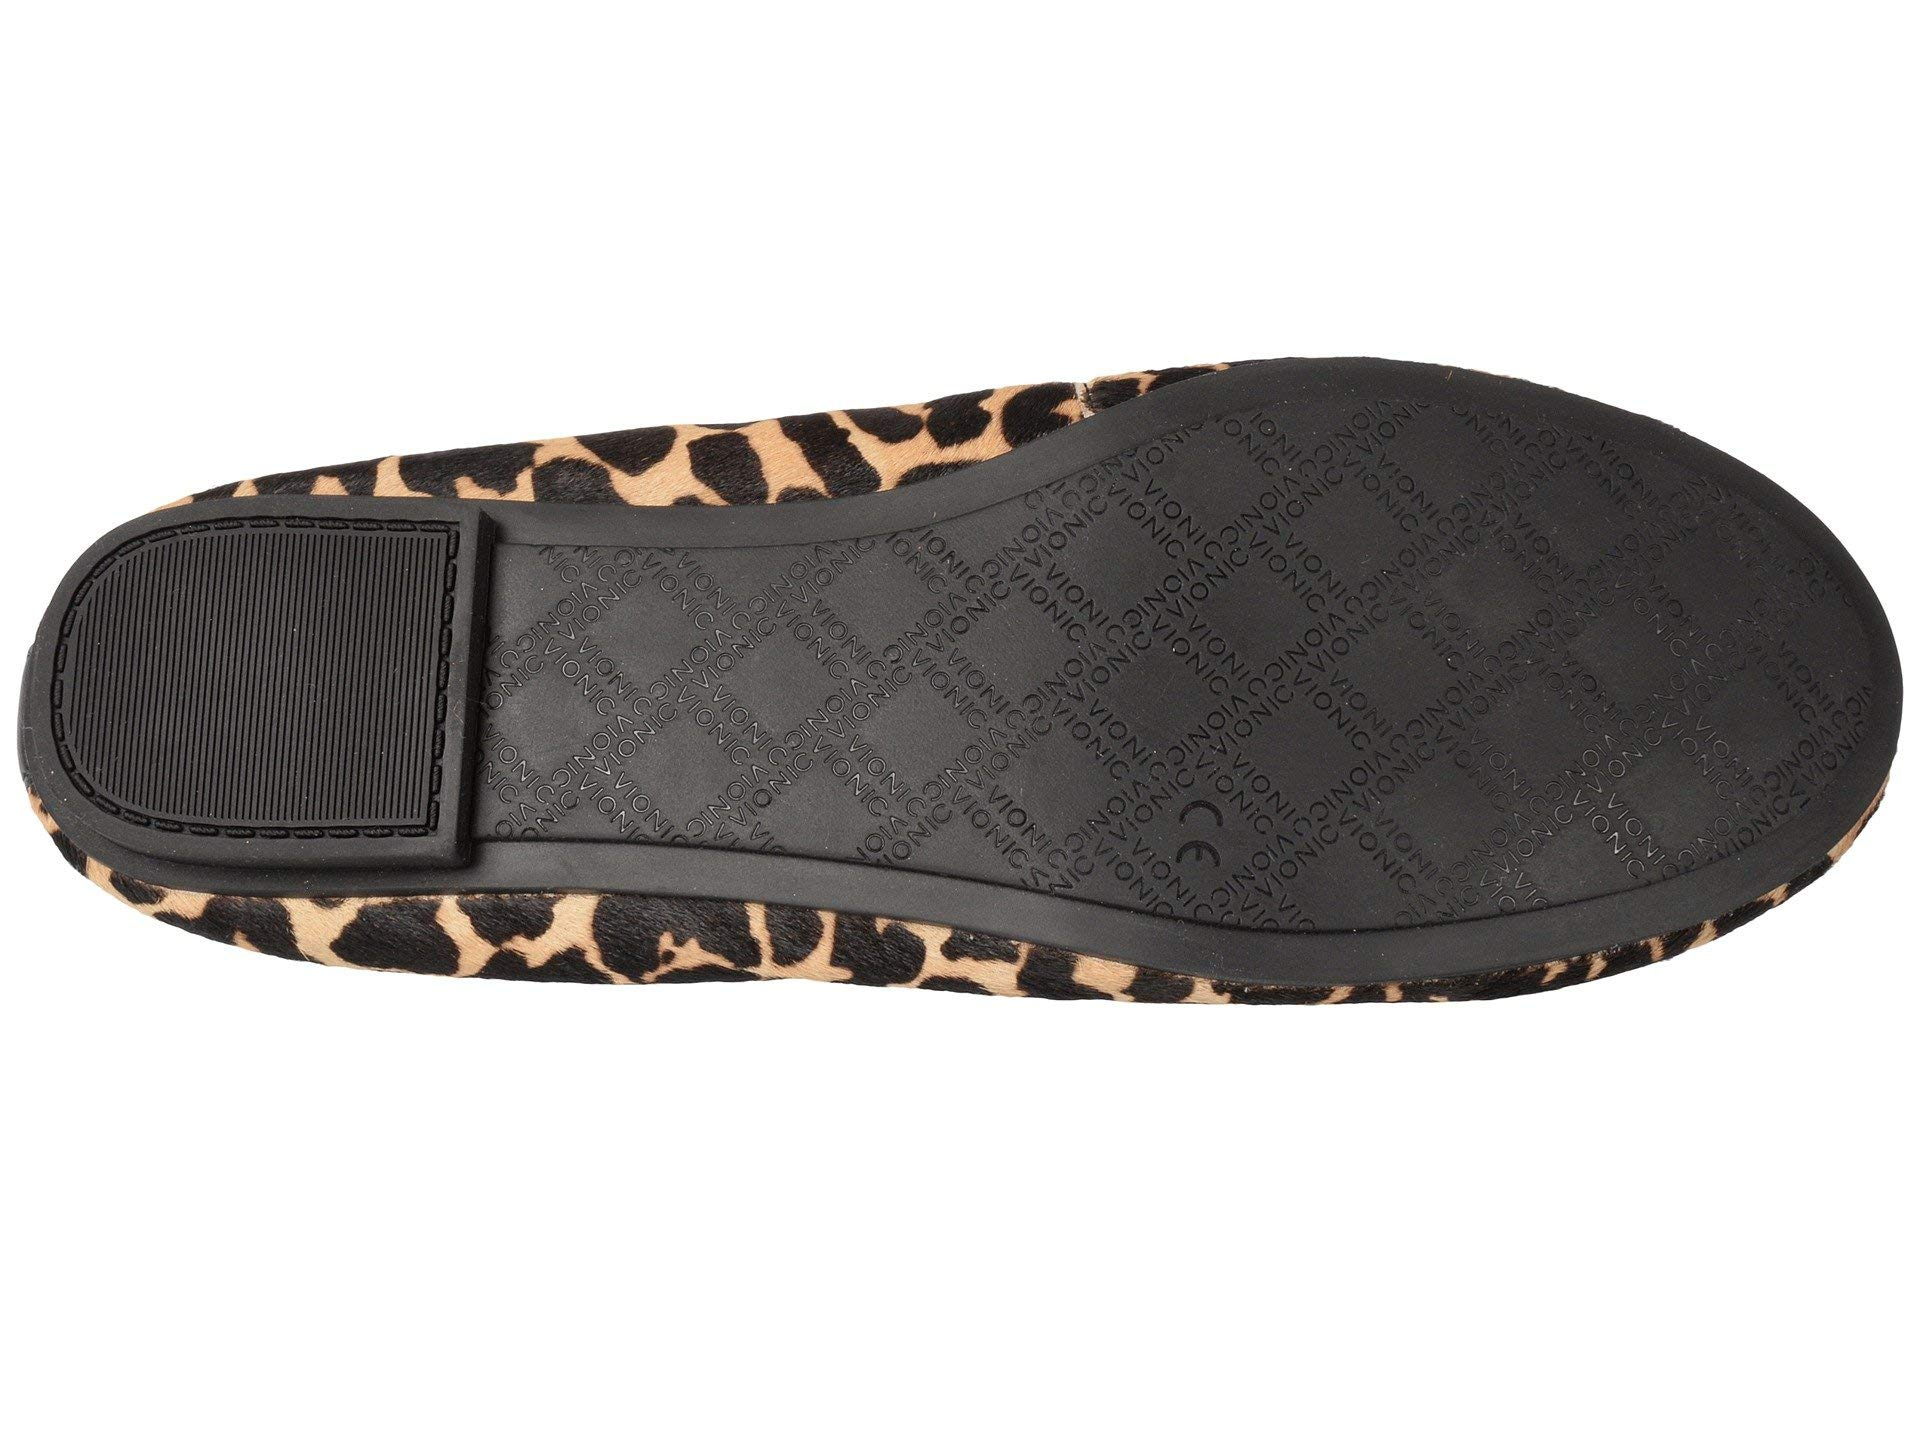quad: (962, 538, 1359, 929)
text: (962, 538, 1359, 929)
